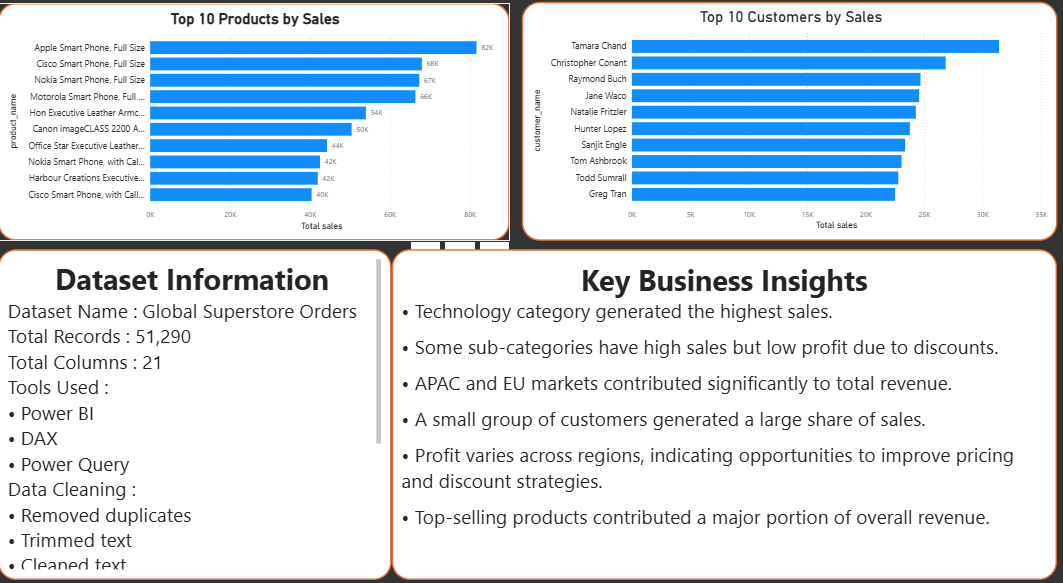

What the dashboard file says about the page in this screenshot:
{"tool":"powerbi","page":{"name":"Page 2","canvas":[1800,1000],"ordinal":1},"visuals":[{"type":"clusteredBarChart","title":"Top 10 Products by Sales","fields":{"Category":["SuperStoreOrders.product_name"],"Y":["SuperStoreOrders.Total sales"]},"box":[9.1,16.4,852.7,396.4],"z":0},{"type":"clusteredBarChart","title":"Top 10 Customers by Sales","fields":{"Category":["SuperStoreOrders.customer_name"],"Y":["SuperStoreOrders.Total sales"]},"box":[881.8,14.5,892.7,398.2],"z":1},{"type":"textbox","box":[9.1,427.3,656.4,550.9],"z":2},{"type":"textbox","box":[665.5,427.3,1109.1,550.9],"z":3}]}

Visuals, with their boxes in screenshot pixels (x1, y1, x2, y2), scaled from the page's 1800x1000 canvas onto the 1063x583 screenshot:
"Top 10 Products by Sales" clusteredBarChart: l=5, t=10, r=509, b=241
"Top 10 Customers by Sales" clusteredBarChart: l=521, t=8, r=1048, b=241
textbox: l=5, t=249, r=393, b=570
textbox: l=393, t=249, r=1048, b=570
